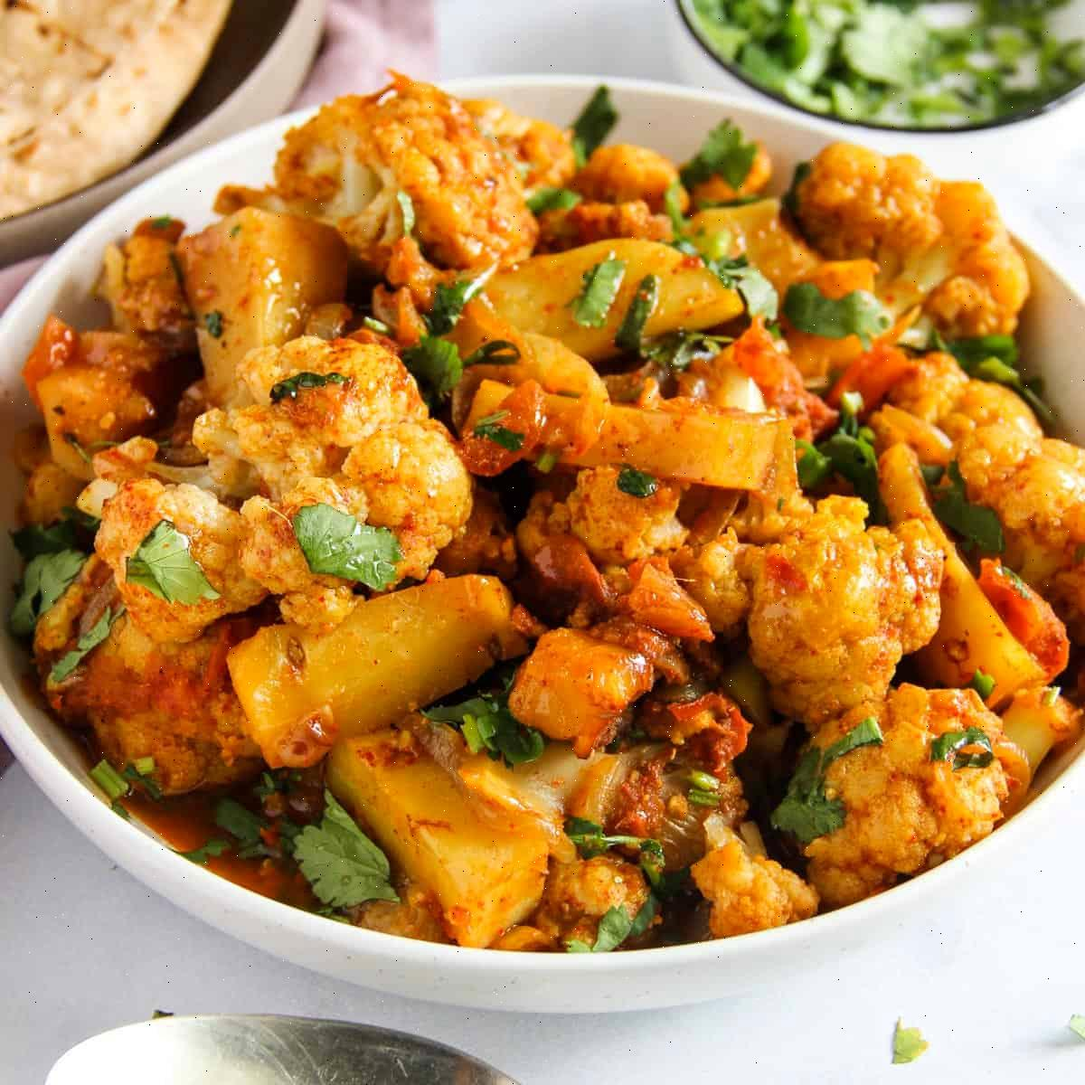aloo gobhi: (31, 119, 1085, 937)
